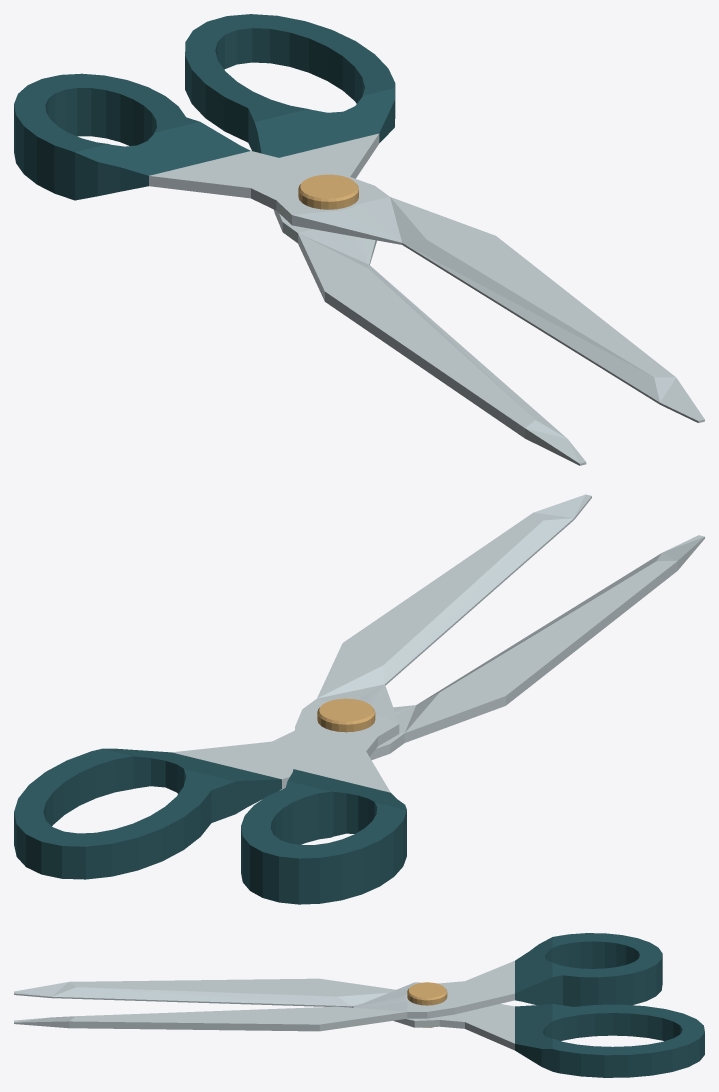
3 views of the same model, one above another, from view 1: azimuth 30°, elevation 25°; view 2: azimuth 150°, elevation 25°; view 3: azimuth 270°, elevation 25° (orthographic). The views are drawn at different scales.
Visible parts, largest first — view 1: Half_UpperThumbOval, Half_LowerLargeOval, FixedPivot_PinWithIntegralRetainingHeads; view 2: Half_UpperThumbOval, Half_LowerLargeOval, FixedPivot_PinWithIntegralRetainingHeads; view 3: Half_LowerLargeOval, Half_UpperThumbOval, FixedPivot_PinWithIntegralRetainingHeads.
Boxes of the visible parts, x1,y1,x2,y2 form: Half_UpperThumbOval: (14,73,704,422); Half_LowerLargeOval: (185,14,586,465); FixedPivot_PinWithIntegralRetainingHeads: (298,174,358,209); Half_UpperThumbOval: (241,494,591,904); Half_LowerLargeOval: (14,535,704,879); FixedPivot_PinWithIntegralRetainingHeads: (317,698,375,732); Half_LowerLargeOval: (14,978,704,1077); Half_UpperThumbOval: (14,933,662,1031); FixedPivot_PinWithIntegralRetainingHeads: (407,982,447,1027).
Size of the model in its own units: 0.1068 by 0.014 by 0.2759.
